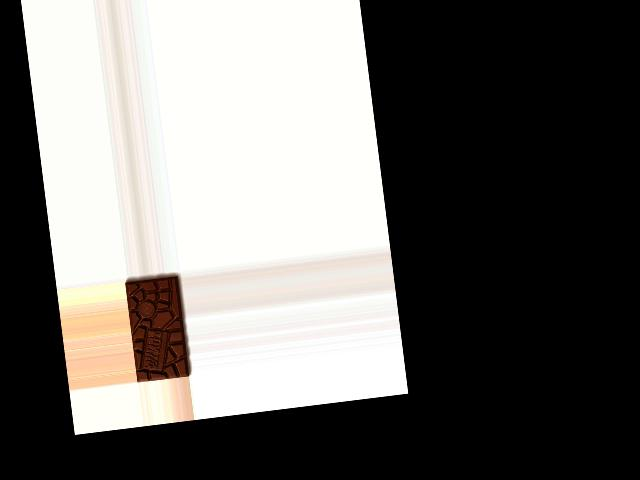chocolate: (125, 274, 192, 383)
